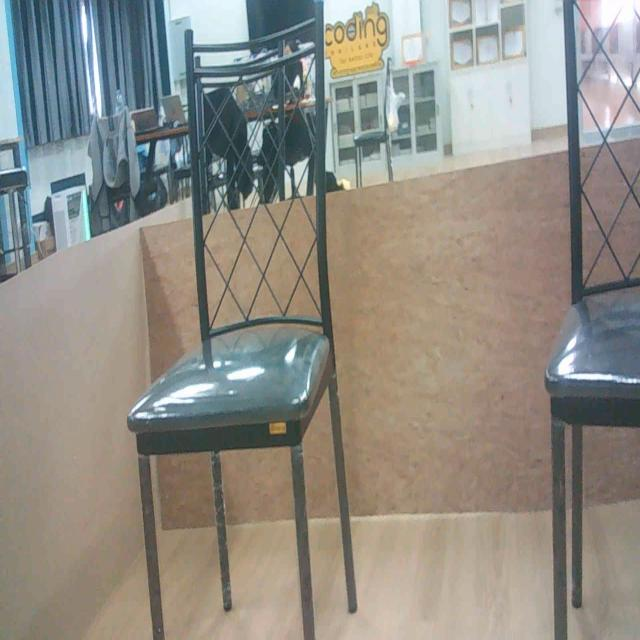emtpy: (132, 36, 336, 640), (547, 0, 640, 640)
